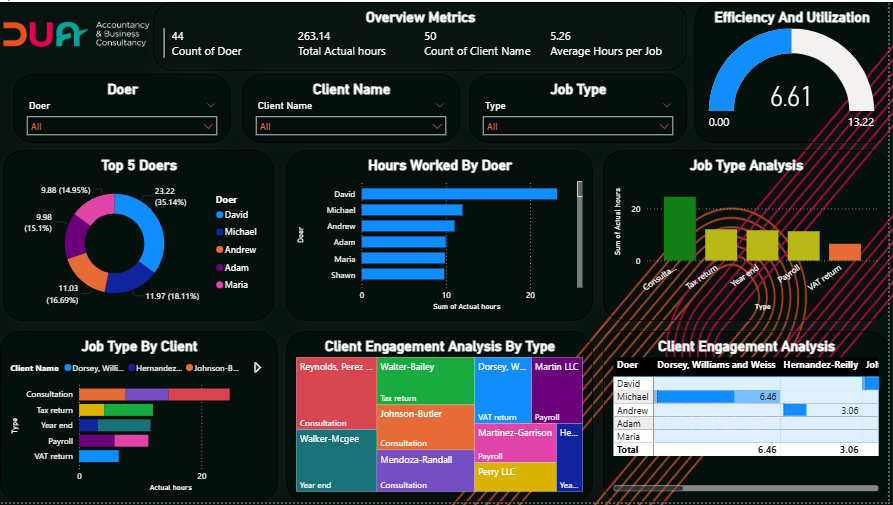

The dashboard page shown, as its layout file describes it:
{"tool":"powerbi","page":{"name":"Page 1","canvas":[1280,720],"ordinal":0},"visuals":[{"type":"image","box":[0,11.5,220.3,69.1],"z":0},{"type":"multiRowCard","title":"Overview Metrics","fields":{"Values":["Fake_Timesheet_Data.Doer","Fake_Timesheet_Data.Actual hours","Fake_Timesheet_Data.Client Name","Fake_Timesheet_Data.Average Hours per Job"]},"box":[220.3,0,769,99.4],"z":1000},{"type":"donutChart","title":"Top 5 Doers","fields":{"Y":["Fake_Timesheet_Data.Actual hours"],"Category":["Fake_Timesheet_Data.Doer"]},"box":[4.3,213.1,390.2,246.2],"z":2000},{"type":"clusteredBarChart","title":"Hours Worked By Doer","fields":{"Category":["Fake_Timesheet_Data.Doer"],"Y":["Fake_Timesheet_Data.Actual hours"]},"box":[411.8,213.1,442.1,246.2],"z":3000},{"type":"barChart","title":"Job Type By Client","fields":{"Series":["Fake_Timesheet_Data.Client Name"],"Y":["Fake_Timesheet_Data.Actual hours"],"Category":["Fake_Timesheet_Data.Type"]},"box":[0,473.8,400.3,246.2],"z":4000},{"type":"clusteredColumnChart","title":"Job Type Analysis","fields":{"Y":["Fake_Timesheet_Data.Actual hours"],"Category":["Fake_Timesheet_Data.Type"]},"box":[868.3,213.1,411.8,246.2],"z":5000},{"type":"treemap","title":"Client Engagement Analysis By Type","fields":{"Values":["Fake_Timesheet_Data.Actual hours"],"Group":["Fake_Timesheet_Data.Client Name"],"Details":["Fake_Timesheet_Data.Type"]},"box":[411.8,473.8,442.1,246.2],"z":6000},{"type":"pivotTable","title":"Client Engagement Analysis","fields":{"Values":["Fake_Timesheet_Data.Actual hours"],"Columns":["Fake_Timesheet_Data.Client Name"],"Rows":["Fake_Timesheet_Data.Doer"]},"box":[868.3,473.8,411.8,246.2],"z":7000},{"type":"gauge","title":"Efficiency And Utilization","fields":{"Y":["Fake_Timesheet_Data.Average Hours per Job"]},"box":[999.4,0,280.8,203],"z":8000},{"type":"slicer","title":"Doer","fields":{"Values":["Fake_Timesheet_Data.Doer"]},"box":[18.7,103.7,313.9,99.4],"z":9000},{"type":"slicer","title":"Client Name","fields":{"Values":["Fake_Timesheet_Data.Client Name"]},"box":[348.5,103.7,313.9,99.4],"z":10000},{"type":"slicer","title":"Job Type","fields":{"Values":["Fake_Timesheet_Data.Type"]},"box":[675.4,103.7,313.9,99.4],"z":11000}]}

Visuals, with their boxes in screenshot pixels (x1, y1, x2, y2), scaled from the page's 1280x720 canvas onto the 893x505 screenshot:
image: 0, 8, 154, 57
"Overview Metrics" multiRowCard: 154, 0, 690, 70
"Top 5 Doers" donutChart: 3, 149, 275, 322
"Hours Worked By Doer" clusteredBarChart: 287, 149, 596, 322
"Job Type By Client" barChart: 0, 332, 279, 504
"Job Type Analysis" clusteredColumnChart: 606, 149, 892, 322
"Client Engagement Analysis By Type" treemap: 287, 332, 596, 504
"Client Engagement Analysis" pivotTable: 606, 332, 892, 504
"Efficiency And Utilization" gauge: 697, 0, 892, 142
"Doer" slicer: 13, 73, 232, 142
"Client Name" slicer: 243, 73, 462, 142
"Job Type" slicer: 471, 73, 690, 142
